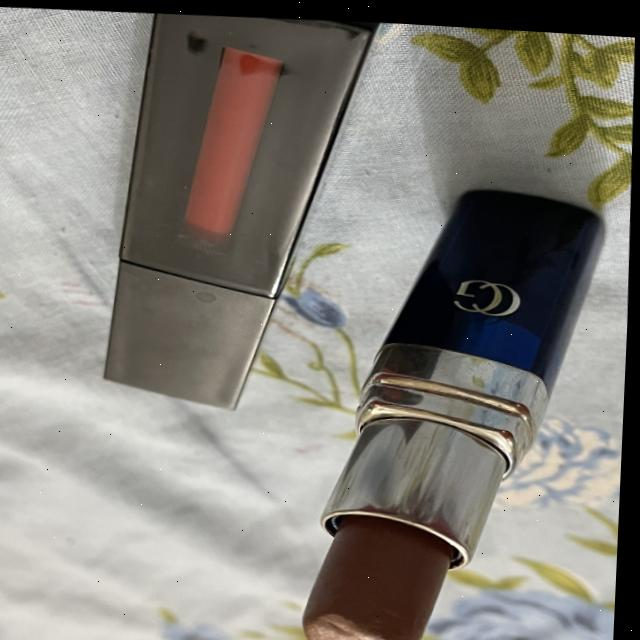lip gloss: (86, 5, 392, 447)
lip stick: (251, 154, 635, 640)
